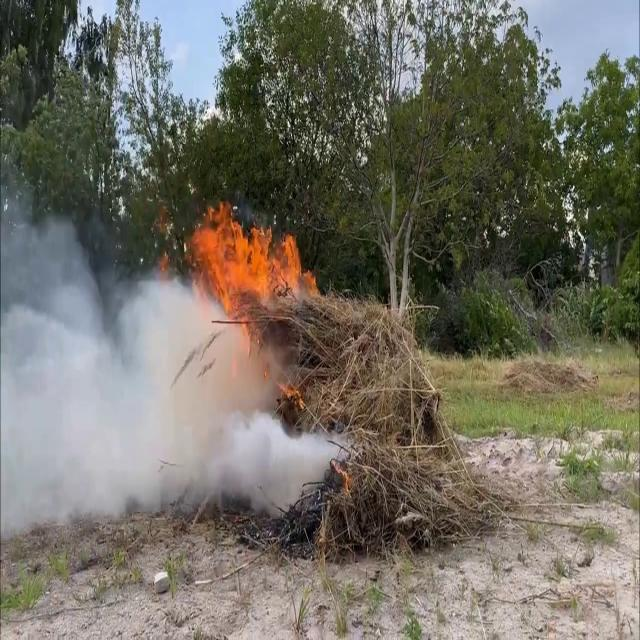Fire: (188, 198, 316, 326)
Smoke: (0, 189, 336, 532)
